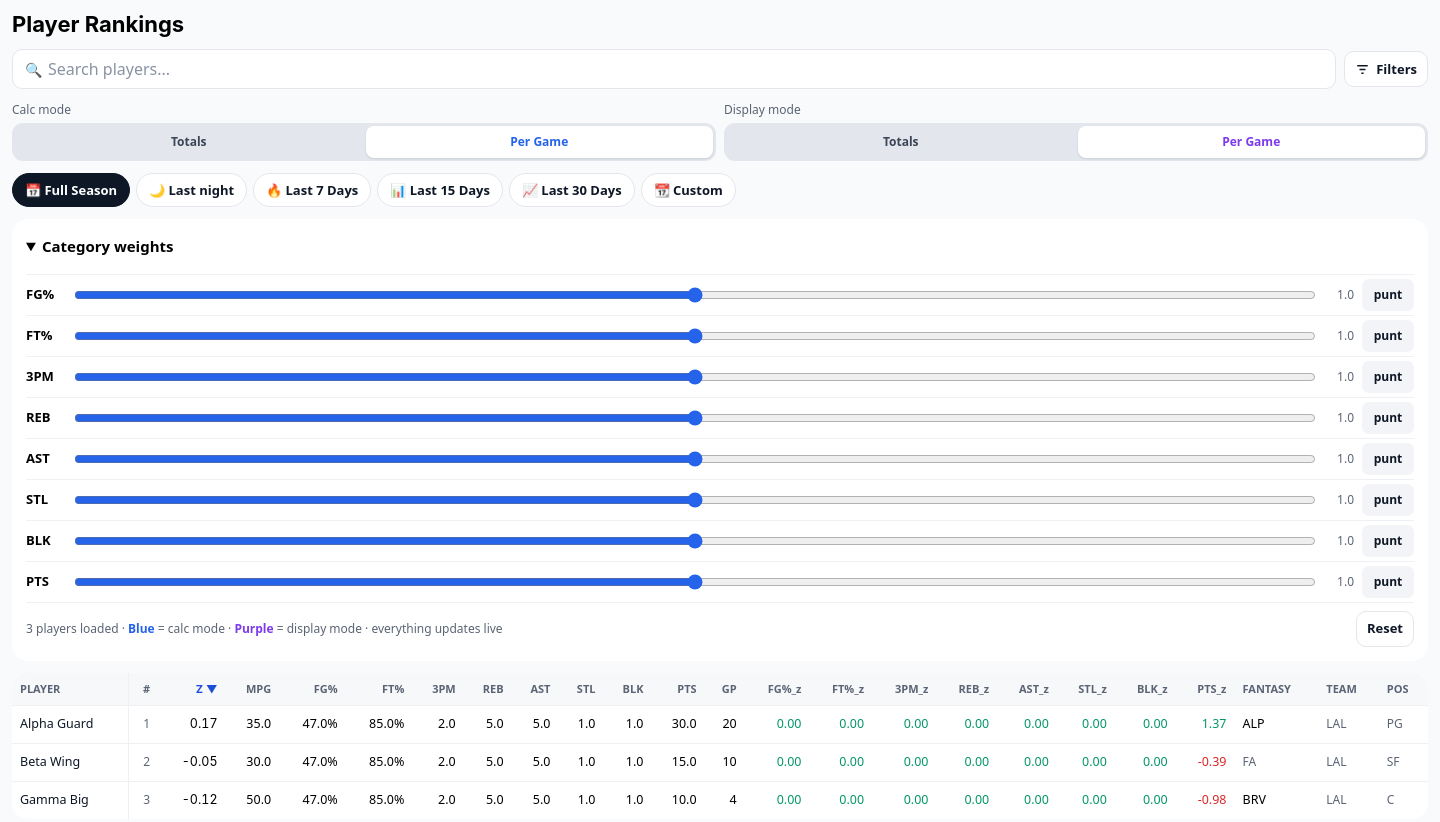
Test: Player Rankings · phone redesign › punting a category greys its columns and Display mode switches MPG to MIN
Expected: the link "Alpha Guard" is shown, [20,715,93,732]
Click the 8th button "punt". click: point(1388, 582)
box: [1362,566,1414,598]
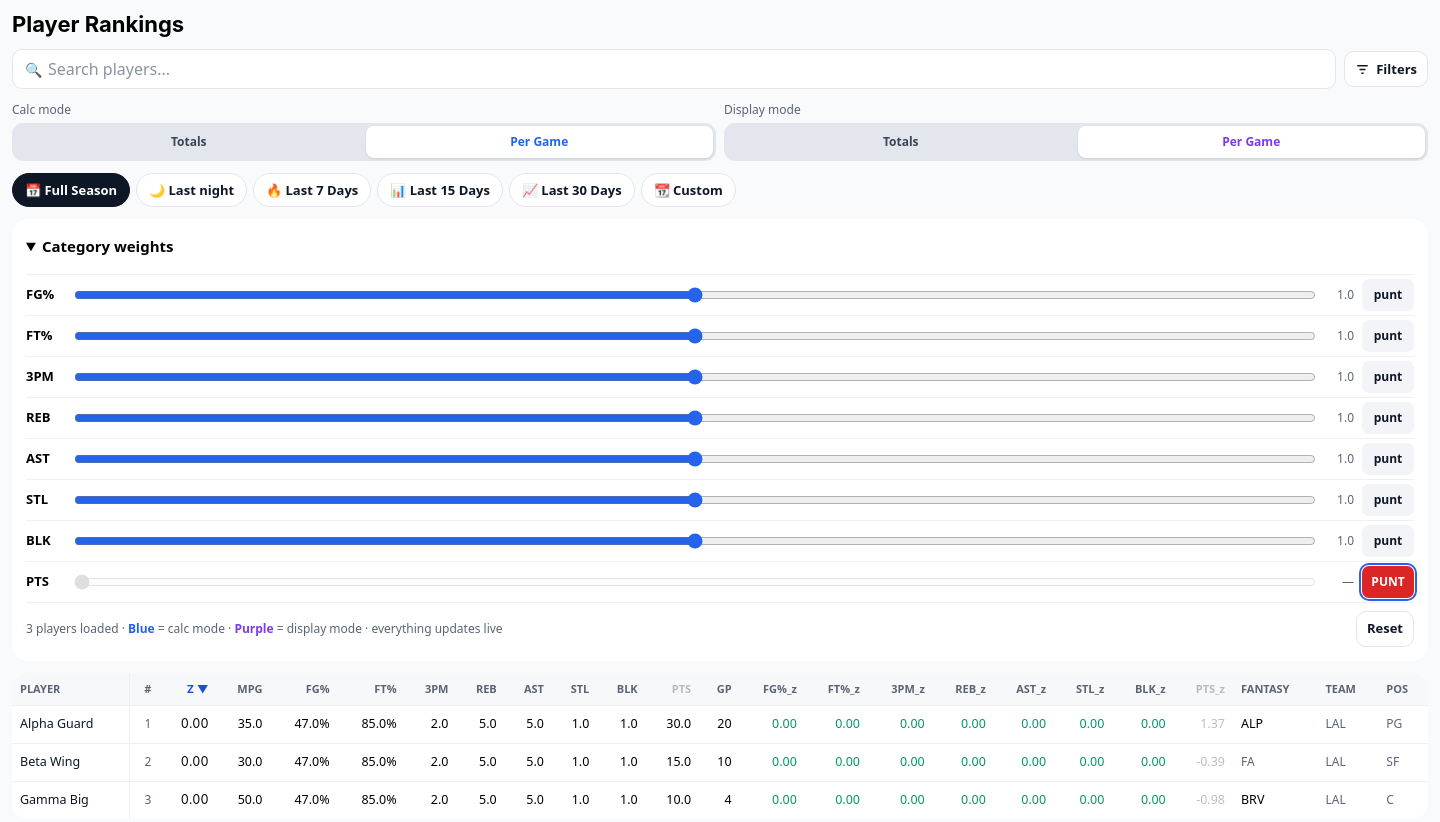
Expected: the button "PUNT" is pressed, [1362,566,1414,598]
Expected: the text "PTS_z" has class "mr-pr-punted", [1196,681,1225,696]
Click the 2nd radio button labelled "Totals". click: point(901, 142)
box: [727,126,1074,158]
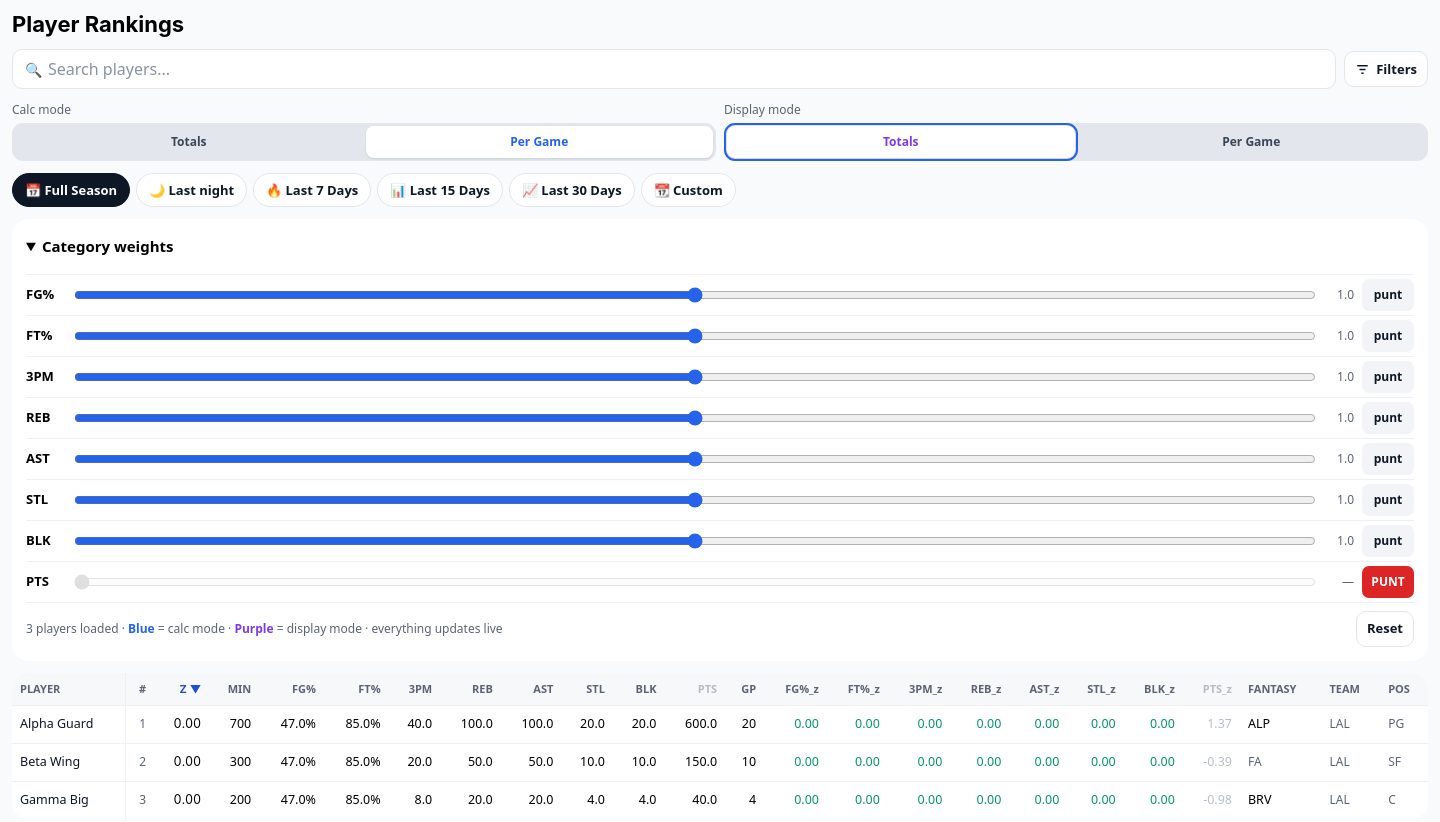
Expected: the button "MIN" is shown, [209,673,259,705]
